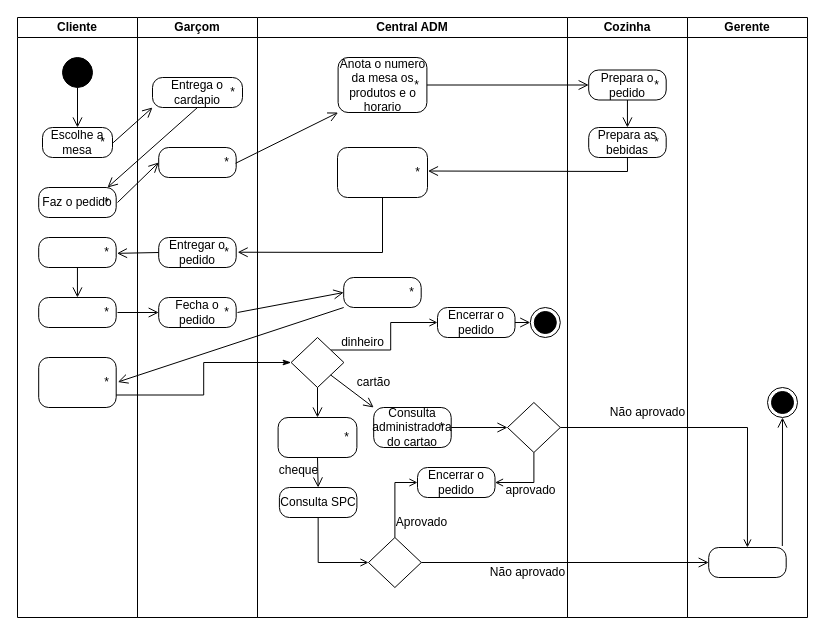
Some shapes in this 825 by 635 pixel diagram are drawn without their labels. Here are the shapes that lost their labels. From the top down, the centre of each, then its label:
At (x=197, y=162): "Registra o pedido".
At (x=382, y=172): "Recebe a notificaçâo do preparo".
At (x=77, y=252): "Consome".
At (x=77, y=312): "Solicita o pagamento".
At (x=382, y=292): "Calcula o pagamento".
At (x=77, y=382): "Decidir forma de pagamento".
At (x=317, y=437): "Solicitar dados do cliente".
At (x=747, y=562): "Toma providencias".
